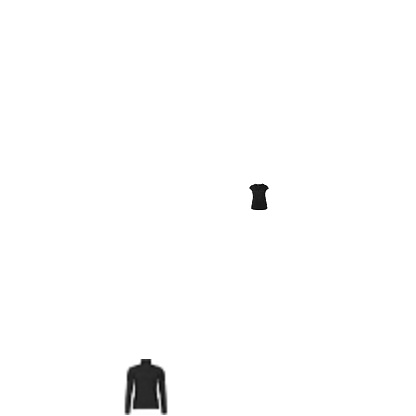Pullover: (117, 359, 173, 415)
Shirt: (245, 183, 273, 211)
